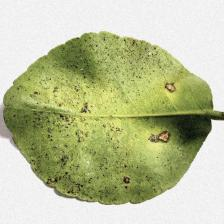canker: (8, 50, 184, 191)
